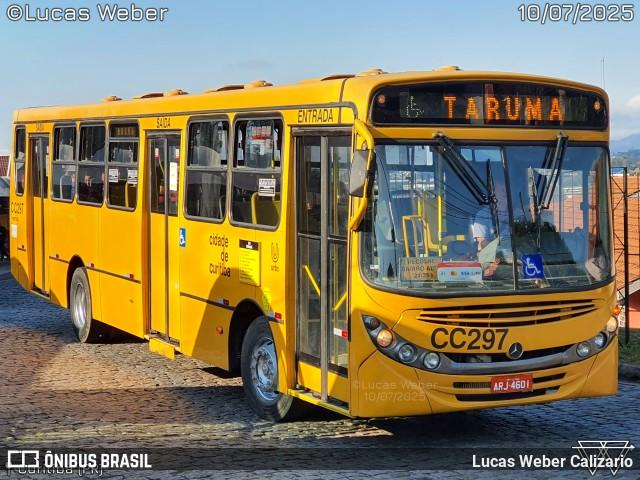TARUMA: (437, 91, 568, 125)
